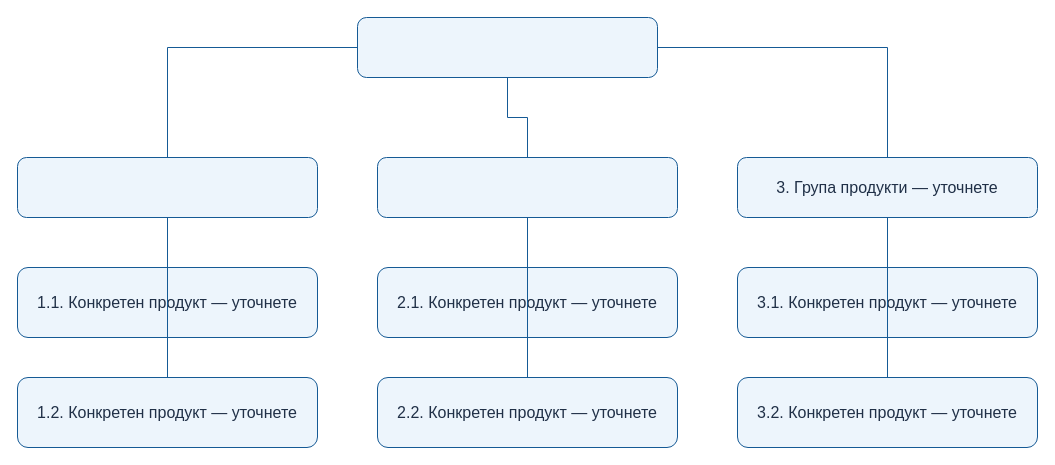
Image size: 1055x465. Some labels were removed from this diagram. Here are the shapes that lost their labels. From the top down, the centre of each, then its label:
[507,47]: 0. Краен продукт — уточнете
[167,187]: 1. Група продукти — уточнете
[527,187]: 2. Група продукти — уточнете
